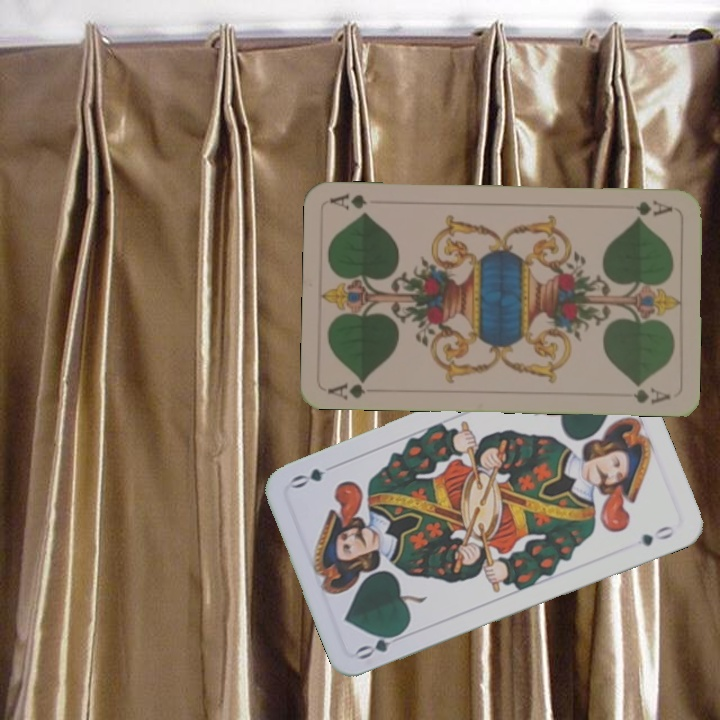GA: (324, 374, 369, 401), (631, 196, 676, 222)
GO: (352, 625, 410, 663)
